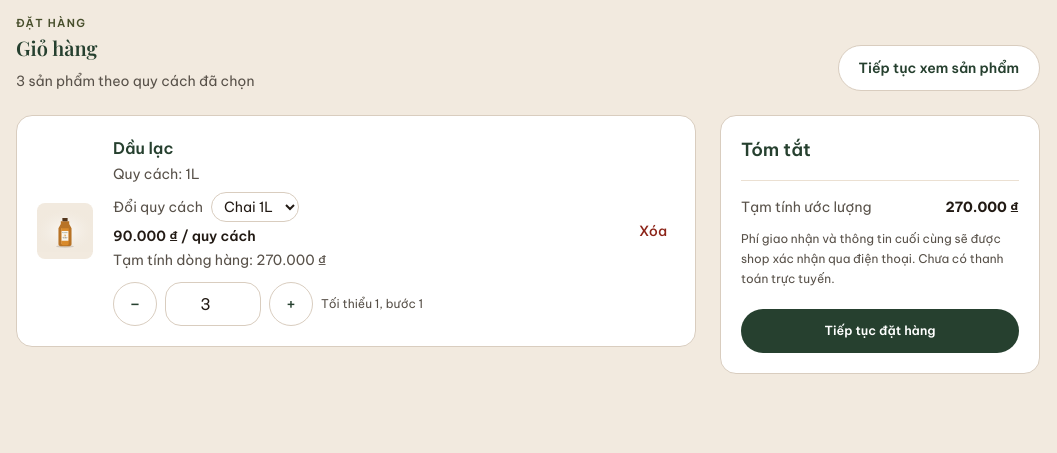
resets an incompatible quantity to the new minimum and explains why after the line remounts
Select "Can 5L" in the dropdown at (255, 206), box 211,192 -> 299,222
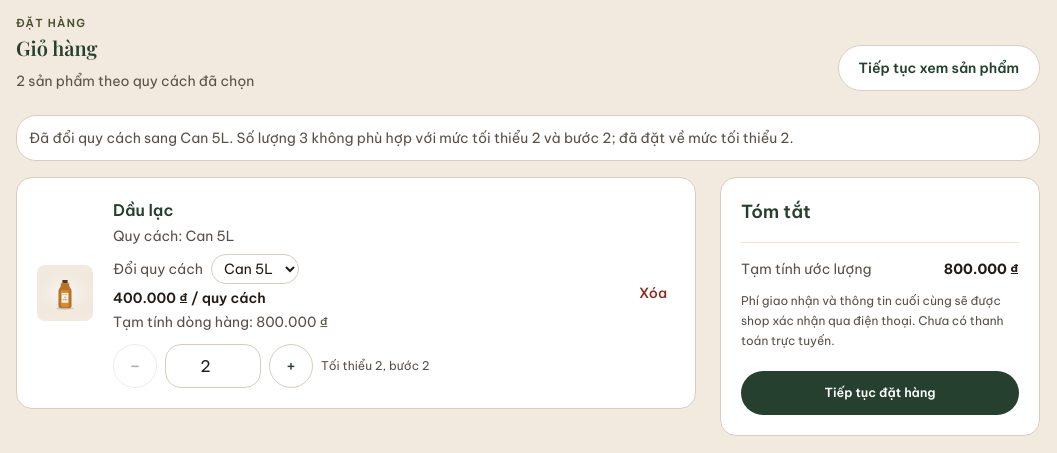
Check: the number field holds "2", box 165,344 -> 261,388
Check: the text "Tạm tính dòng hàng: 800.000 ₫" is shown, box 113,312 -> 328,330
